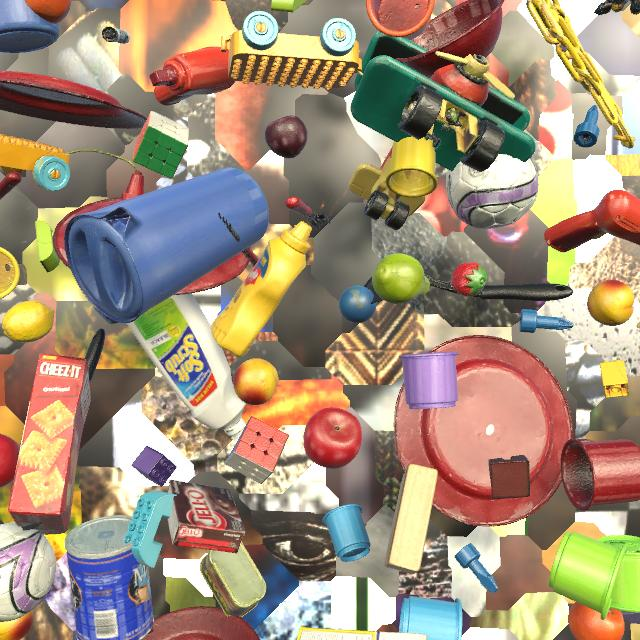ycb_002_master_chef_can: (64, 515, 154, 640)
ycb_003_cracker_box: (8, 353, 91, 535)
ycb_004_sugar_box: (297, 626, 428, 640)
ycb_006_mustard_bottle: (211, 221, 312, 357)
ycb_008_pudding_box: (167, 480, 245, 553)
ycb_010_potted_meat_can: (200, 541, 266, 617)
ycb_012_strawberry: (451, 262, 487, 297)
ycb_013_apple: (303, 407, 362, 469), (0, 434, 20, 487)
ycb_014_lemon: (2, 300, 55, 343)
ycb_015_peach: (587, 280, 634, 326), (233, 358, 278, 405), (0, 610, 34, 640)
ycb_016_pear: (372, 253, 430, 304)
ycb_017_orange: (568, 602, 625, 640), (24, 0, 71, 24)
ycb_018_plum: (265, 116, 308, 158)
